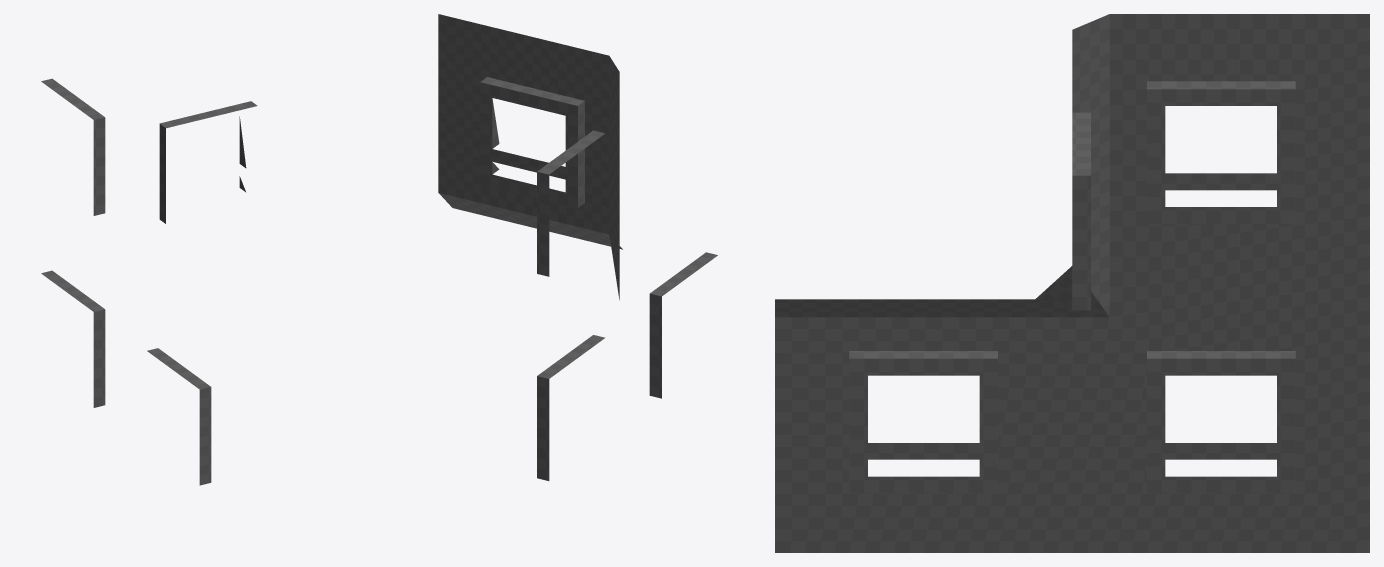
3 views of the same model, side by side, from view 1: azimuth 30°, elevation 25°; view 2: azimuth 150°, elevation 25°; view 3: azimuth 270°, elevation 25° (orthographic). The views are drawn at different scales.
Parts seen in each view (by area): view 1: CubeDownBackRight5V4; view 2: CubeDownBackRight5V4; view 3: CubeDownBackRight5V4.
Part boxes in pixels (x1,y1,x2,y2): CubeDownBackRight5V4: (41,78,257,485); CubeDownBackRight5V4: (438,14,717,480); CubeDownBackRight5V4: (775,14,1369,552).
Size of the model in its own units: 2 by 4 by 4.
1 material, 1 textured.
